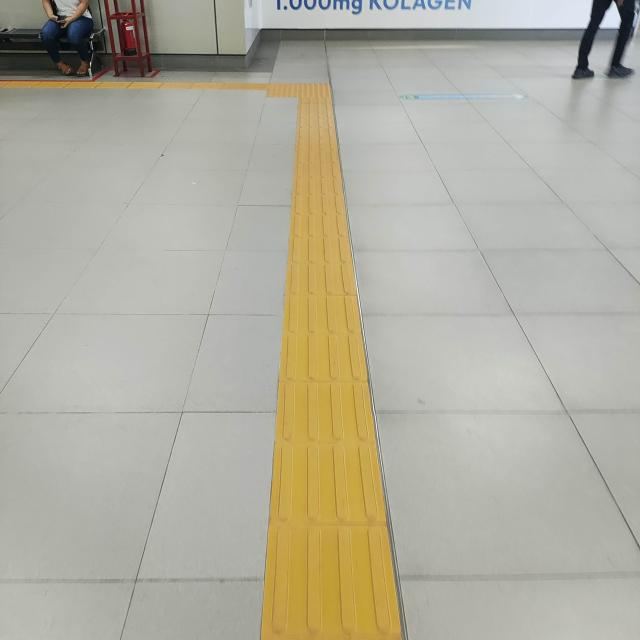kiri: (238, 68, 348, 110)
lurus: (268, 129, 386, 636)
